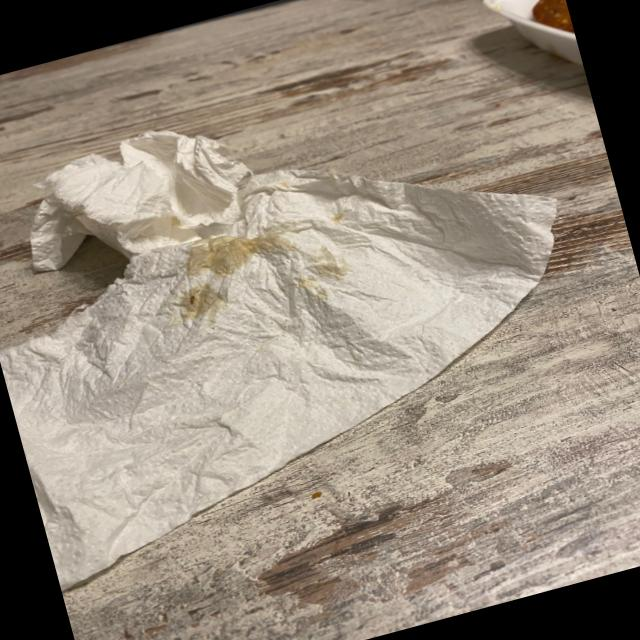organic waste: (0, 27, 625, 585)
